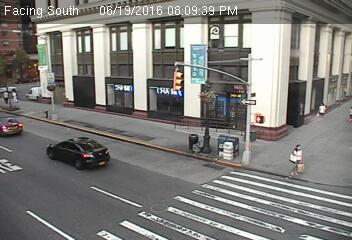neg: (26, 177, 50, 208), (32, 29, 54, 59), (134, 140, 156, 168), (128, 185, 149, 212), (161, 78, 180, 105), (274, 198, 293, 224), (190, 58, 209, 83), (284, 51, 303, 76), (81, 29, 100, 54), (263, 122, 281, 146), (48, 68, 66, 91), (245, 90, 262, 112), (112, 66, 129, 88), (87, 83, 104, 105), (38, 103, 55, 125), (206, 198, 223, 220), (200, 132, 216, 154), (16, 46, 32, 68), (91, 143, 107, 164), (60, 132, 75, 152), (231, 138, 246, 157), (182, 130, 196, 149), (244, 32, 257, 50)
pos: (285, 139, 314, 178), (314, 100, 328, 120), (8, 85, 21, 102), (1, 88, 13, 105)
